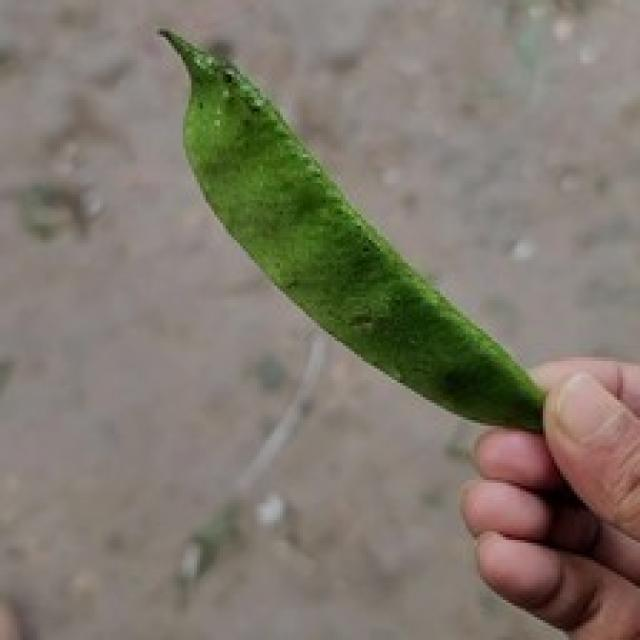Bean: (154, 23, 549, 434)
